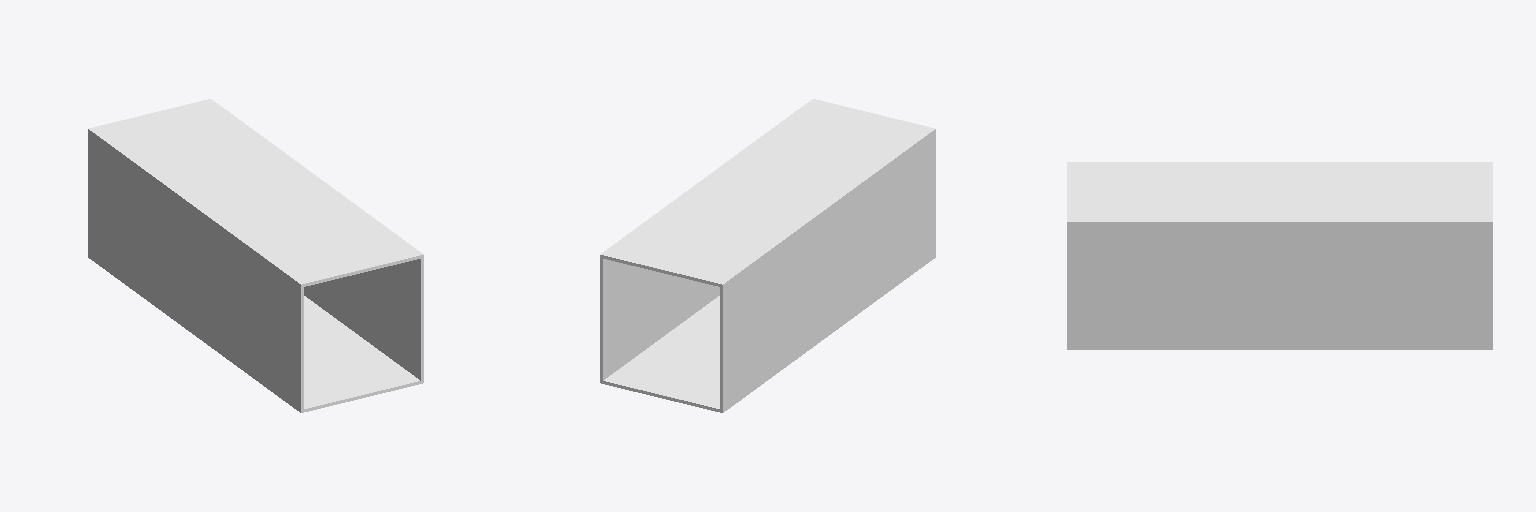
Rendered from hallway_base.obj.
3 renders of one model, left to right at view 1: azimuth 30°, elevation 25°; view 2: azimuth 150°, elevation 25°; view 3: azimuth 270°, elevation 25°, orthographic.
Bounding box in the file's own units: 40 × 40 × 120.